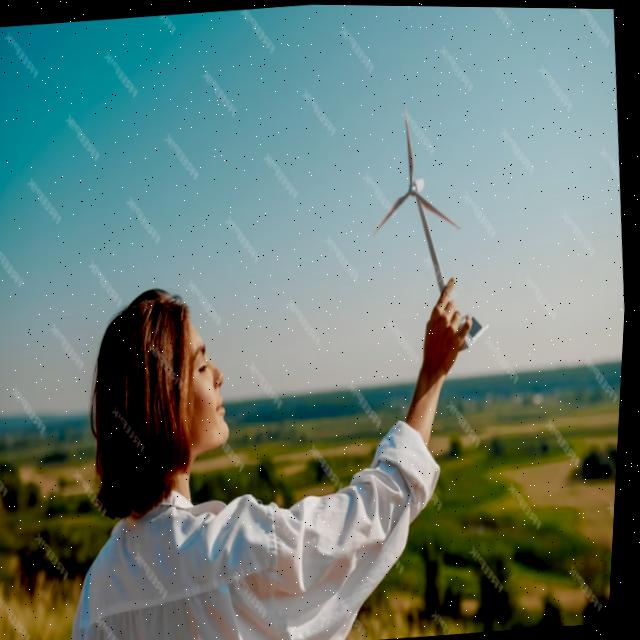solid-blade: (416, 189, 462, 228), (376, 188, 412, 231), (405, 105, 414, 183)
